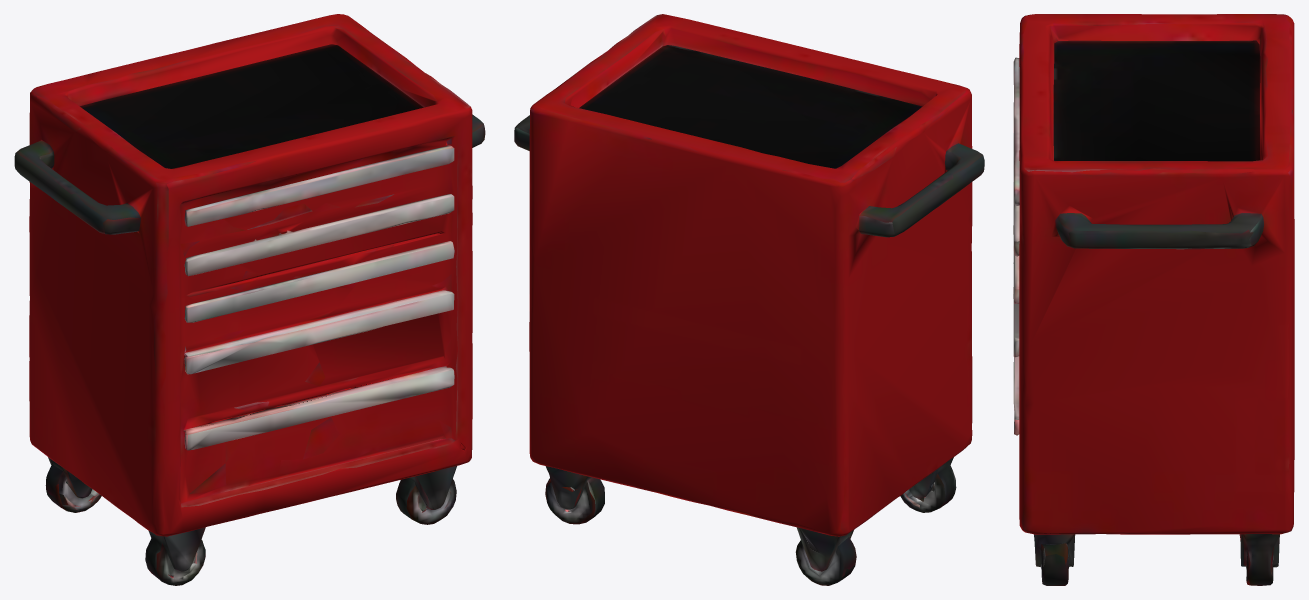
File: tool_cabinet.glb
3 views of the same model, side by side, from view 1: azimuth 30°, elevation 25°; view 2: azimuth 150°, elevation 25°; view 3: azimuth 270°, elevation 25° (orthographic). The views are drawn at different scales.
Visible parts, largest first — view 1: geometry_0; view 2: geometry_0; view 3: geometry_0.
Part boxes in pixels (x1,y1,x2,y2): geometry_0: (14,14,485,585); geometry_0: (514,14,984,585); geometry_0: (1013,14,1294,585).
Size of the model in its own units: 0.973 by 1 by 0.5954.
1 material, 1 textured.
